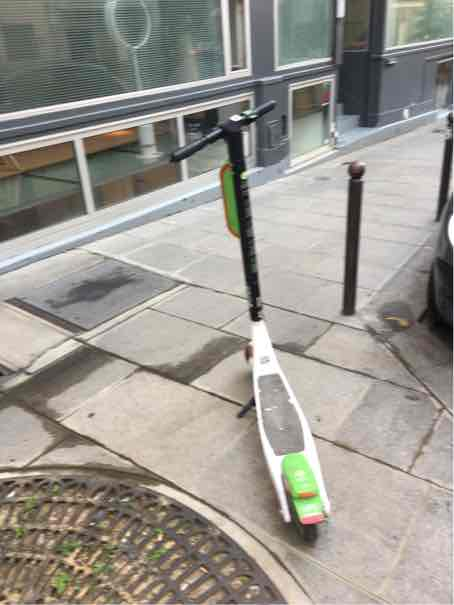scooter: (164, 93, 357, 541)
